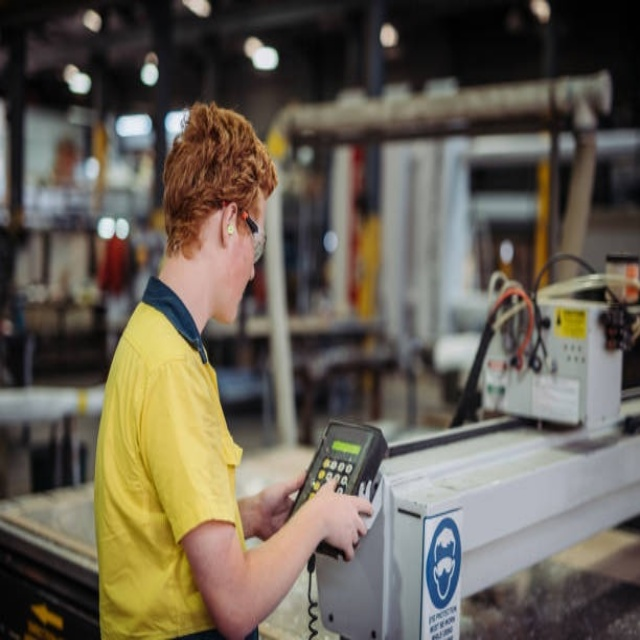Gafas: (218, 199, 265, 262)
Sin_guantes: (306, 482, 376, 563), (253, 469, 307, 543)
Sin_mascara: (223, 267, 255, 326)
